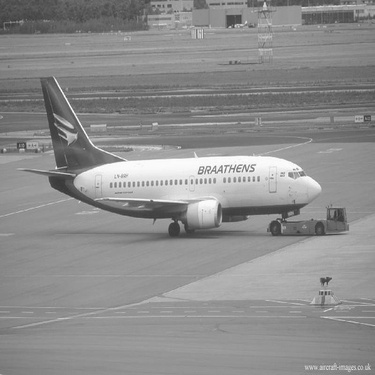airplane: (22, 67, 321, 239)
